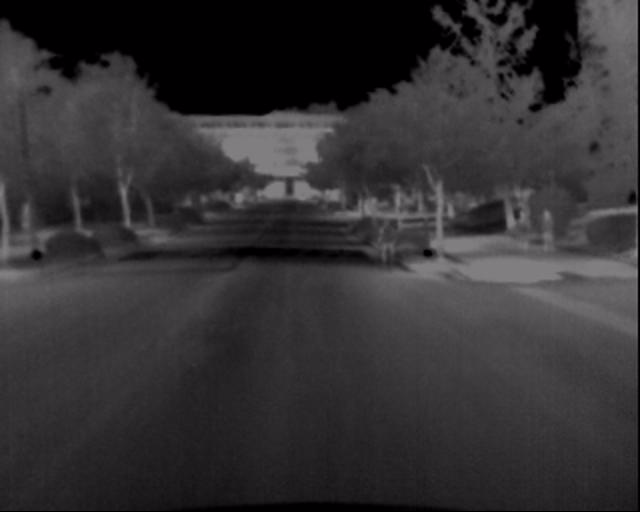person: (376, 219, 400, 272), (517, 208, 541, 260), (545, 207, 565, 260)
